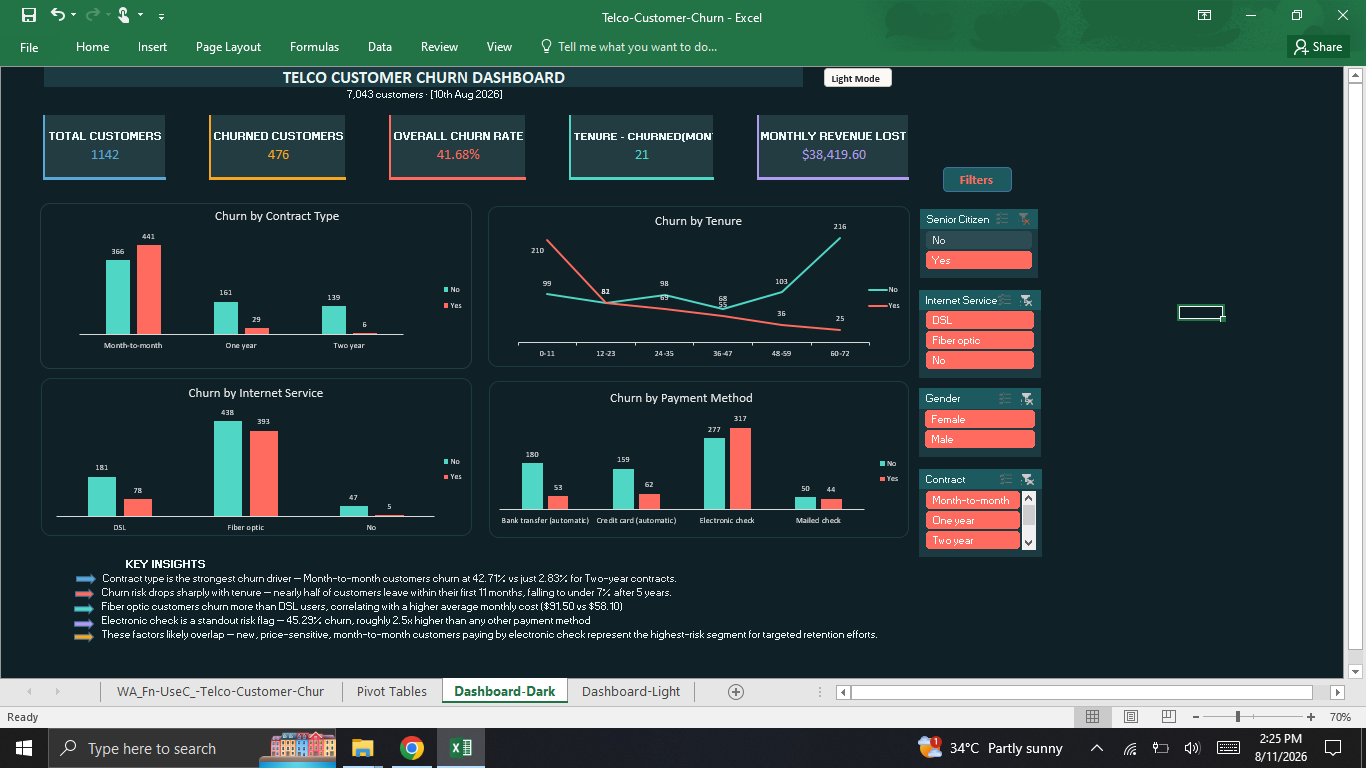

This screenshot's page, from the dashboard's own definition file:
{"tool":"powerbi","page":{"name":"Page 1","canvas":[1280,720],"ordinal":0},"visuals":[{"type":"cardVisual","fields":{"Data":["CountNonNull(Table1.customerID)"]},"box":[0,70.6,263.7,188.1],"z":0},{"type":"cardVisual","fields":{"Data":["CountNonNull(Table1.customerID)"]},"box":[263.7,70.6,252,188.1],"z":1000},{"type":"cardVisual","fields":{"Data":["Table1.Churn Rate"]},"box":[515.7,70.6,248.6,188.1],"z":2000},{"type":"cardVisual","fields":{"Data":["Table1.Avg Tenure Churned"]},"box":[749.2,70.6,257,188.1],"z":3000},{"type":"cardVisual","fields":{"Data":["Table1.Monthly Revenue Lost"]},"box":[1006.2,70.6,273.8,188.1],"z":4000},{"type":"clusteredColumnChart","title":"Churn Rate by Contract","fields":{"Category":["Table1.Contract"],"Y":["Table1.Churn Rate"],"Series":["Table1.Contract"]},"box":[216.7,258.7,367.9,223.4],"z":4001},{"type":"lineChart","fields":{"Category":["Table1.TenureGroup"],"Y2":["Table1.Churn Rate"]},"box":[584.6,258.7,356.1,223.4],"z":4002},{"type":"clusteredColumnChart","title":"Churn Rate by InternetService","fields":{"Category":["Table1.InternetService"],"Y":["Table1.Churn Rate"],"Series":["Table1.InternetService"]},"box":[940.7,258.7,339.3,223.4],"z":4003},{"type":"clusteredColumnChart","title":"Average of Monthly Charges","fields":{"Category":["Table1.InternetService"],"Y":["Avg(Table1.MonthlyCharges)"],"Series":["Table1.InternetService"]},"box":[216.7,482.1,579.5,238.5],"z":4004},{"type":"clusteredColumnChart","title":"Churn Rate by Payment Method","fields":{"Category":["Table1.PaymentMethod"],"Y":["Table1.Churn Rate"],"Series":["Table1.PaymentMethod"]},"box":[796.2,482.1,483.8,238.5],"z":4005},{"type":"slicer","fields":{"Values":["Table1.Contract"]},"box":[0,258.7,216.7,132.7],"z":4006},{"type":"slicer","fields":{"Values":["Table1.InternetService"]},"box":[0,391.4,216.7,114.2],"z":4007},{"type":"slicer","fields":{"Values":["Table1.gender"]},"box":[0,505.8,216.9,95.3],"z":4008},{"type":"slicer","fields":{"Values":["Table1.SeniorCitizen"]},"box":[0,598,216.7,122.6],"z":4009},{"type":"textbox","box":[0,0,1280,70.6],"z":4010}]}

Visuals, with their boxes on the page's 1280x720 design canvas (x1, y1, x2, y2). These are canvas units, not pixel positions in the 1366x768 screenshot, which may show the page scaled, cropped or inside an application window:
cardVisual - CountNonNull(Table1.customerID): (left=0, top=71, right=264, bottom=259)
cardVisual - CountNonNull(Table1.customerID): (left=264, top=71, right=516, bottom=259)
cardVisual - Table1.Churn Rate: (left=516, top=71, right=764, bottom=259)
cardVisual - Table1.Avg Tenure Churned: (left=749, top=71, right=1006, bottom=259)
cardVisual - Table1.Monthly Revenue Lost: (left=1006, top=71, right=1280, bottom=259)
"Churn Rate by Contract" clusteredColumnChart: (left=217, top=259, right=585, bottom=482)
lineChart - Table1.TenureGroup x Table1.Churn Rate: (left=585, top=259, right=941, bottom=482)
"Churn Rate by InternetService" clusteredColumnChart: (left=941, top=259, right=1280, bottom=482)
"Average of Monthly Charges" clusteredColumnChart: (left=217, top=482, right=796, bottom=721)
"Churn Rate by Payment Method" clusteredColumnChart: (left=796, top=482, right=1280, bottom=721)
slicer - Table1.Contract: (left=0, top=259, right=217, bottom=391)
slicer - Table1.InternetService: (left=0, top=391, right=217, bottom=506)
slicer - Table1.gender: (left=0, top=506, right=217, bottom=601)
slicer - Table1.SeniorCitizen: (left=0, top=598, right=217, bottom=721)
textbox: (left=0, top=0, right=1280, bottom=71)
